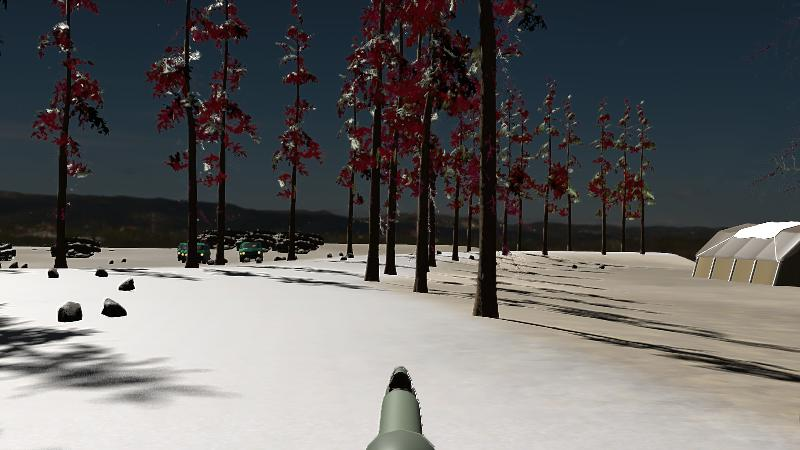Tank: (0, 239, 17, 262)
car: (176, 239, 211, 266), (237, 241, 265, 264)
